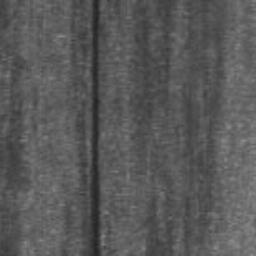Scratches: (90, 0, 102, 256)
